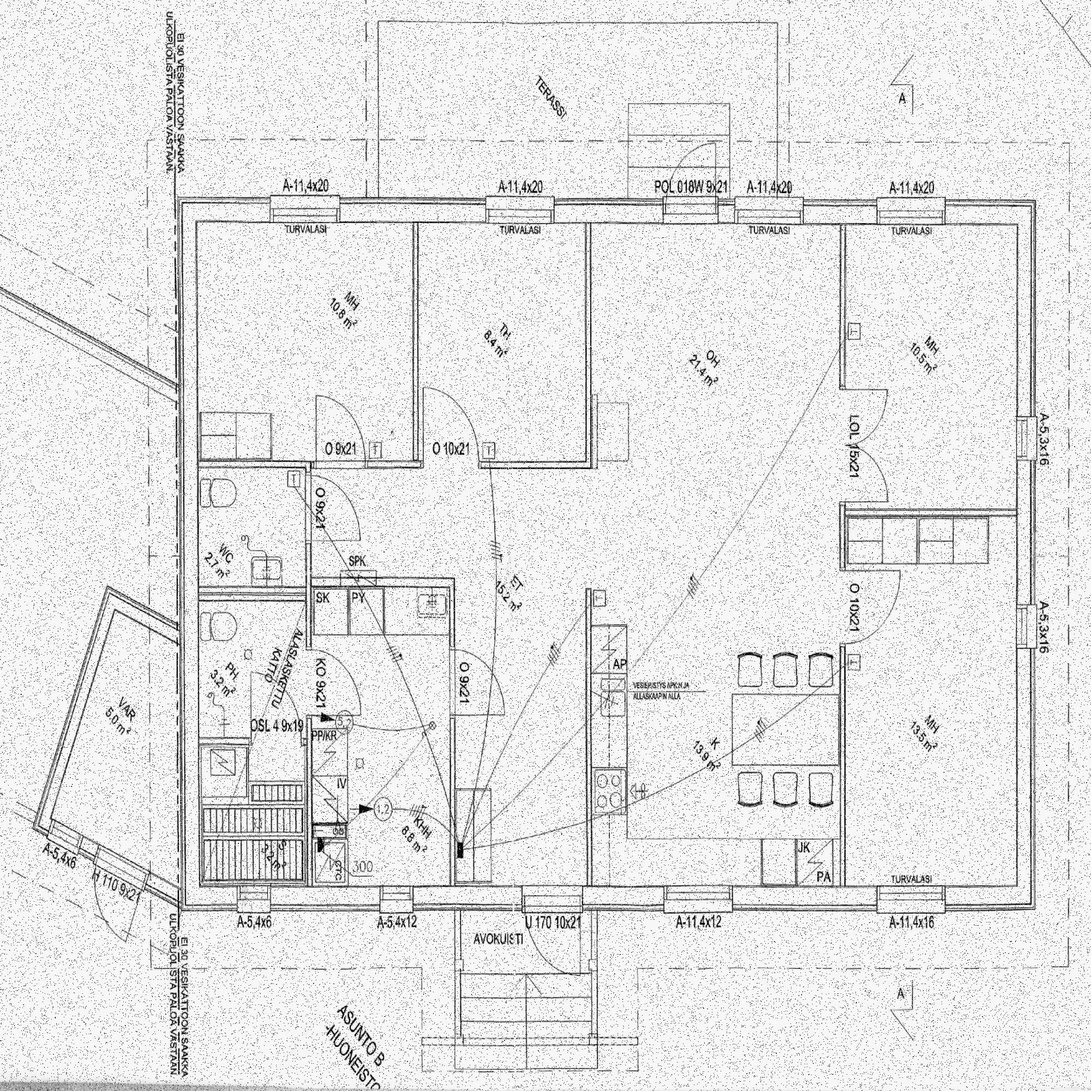wall: (179, 197, 1036, 224), (179, 887, 1036, 911), (31, 588, 114, 831), (31, 818, 186, 911), (1017, 197, 1036, 911), (180, 197, 198, 911), (106, 588, 198, 650), (841, 197, 846, 911), (586, 589, 592, 911), (179, 587, 312, 601), (450, 578, 455, 911), (306, 578, 311, 911), (586, 197, 592, 468), (413, 197, 419, 461), (419, 461, 592, 469), (840, 509, 1036, 516), (306, 579, 455, 587), (179, 739, 312, 746), (180, 461, 312, 468), (312, 461, 419, 469), (306, 461, 312, 579), (306, 823, 347, 838)
